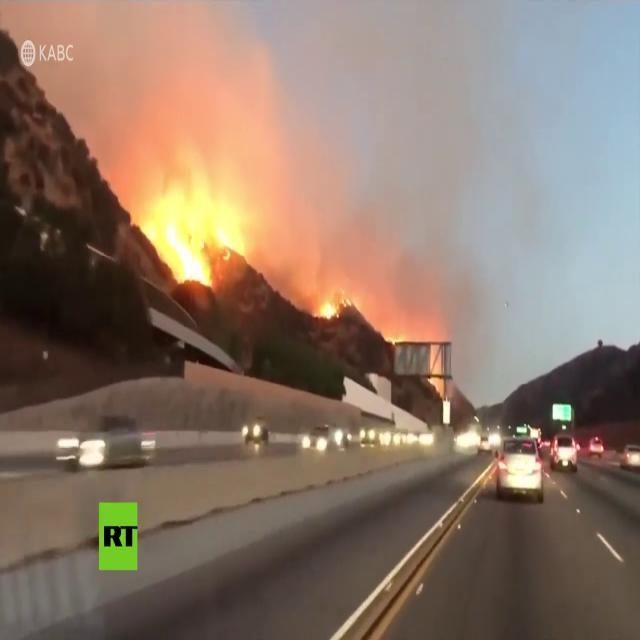Fire: (131, 182, 247, 292), (316, 290, 353, 324), (386, 331, 408, 346)
